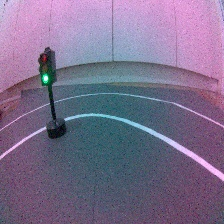green: (35, 45, 69, 142)
